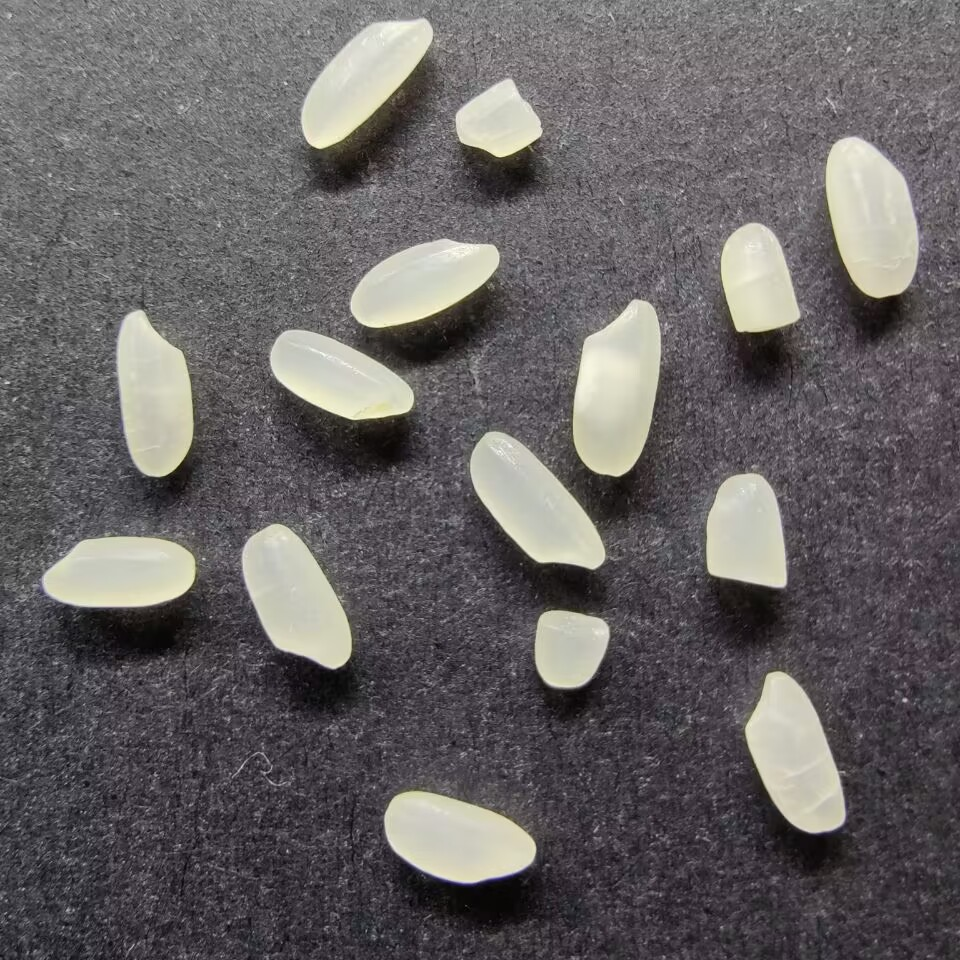broken: (703, 471, 788, 592), (719, 222, 802, 335), (453, 77, 545, 158), (532, 609, 611, 690)
rice: (468, 430, 605, 570), (299, 17, 432, 151), (743, 670, 846, 834), (240, 523, 352, 670), (571, 298, 662, 478), (824, 134, 919, 297), (383, 790, 536, 886), (348, 236, 501, 330), (114, 305, 195, 479), (267, 327, 415, 422), (40, 535, 196, 609)
